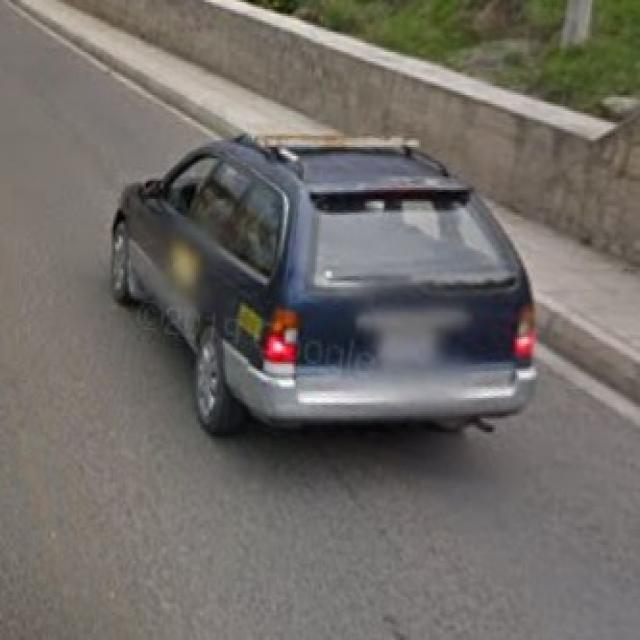cars: (103, 134, 536, 448)
